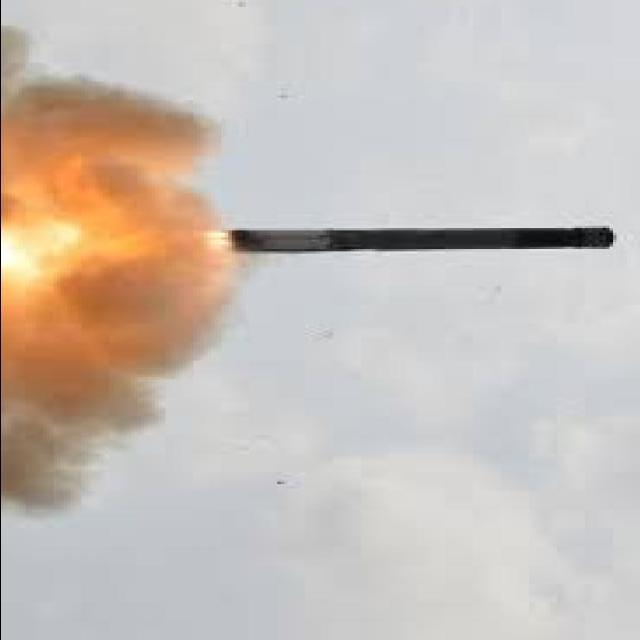missile: (224, 225, 622, 256)
